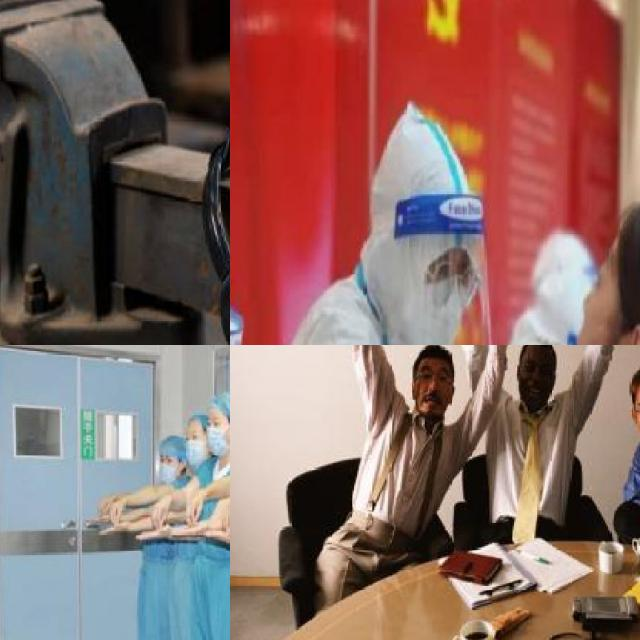face_mask: (406, 242, 477, 345), (203, 411, 230, 460), (184, 423, 211, 471), (159, 451, 182, 483)
face_nomask: (541, 251, 630, 345), (410, 361, 456, 420), (517, 355, 557, 411)
glasses: (418, 255, 488, 311)
hand_glove: (478, 313, 562, 345)
hand_noglove: (133, 526, 171, 544), (205, 525, 230, 551), (172, 523, 206, 542), (183, 497, 202, 523), (150, 500, 168, 526), (100, 522, 132, 536), (106, 500, 126, 520), (84, 514, 112, 525), (97, 492, 111, 512), (223, 501, 230, 532)
head_nohelmet: (598, 180, 640, 283), (414, 345, 455, 373), (520, 345, 561, 361), (624, 361, 640, 395)
person: (343, 345, 461, 582), (466, 345, 597, 545), (134, 432, 183, 640), (172, 407, 208, 640), (203, 394, 230, 640)
